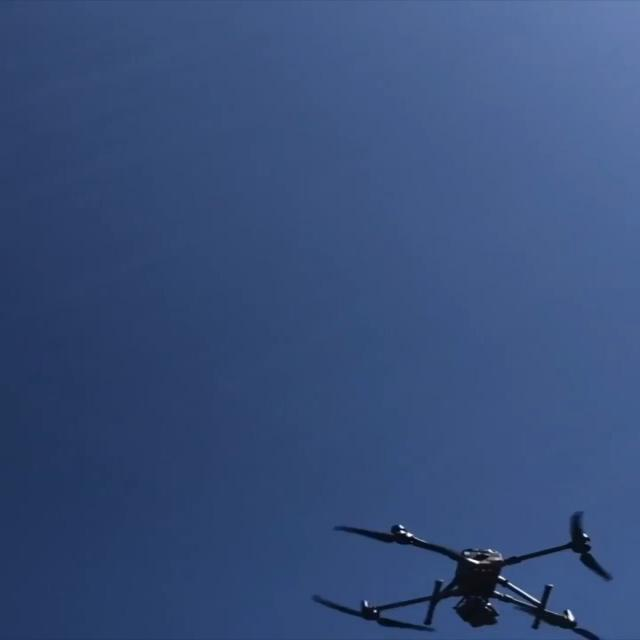drone: (312, 509, 612, 638)
